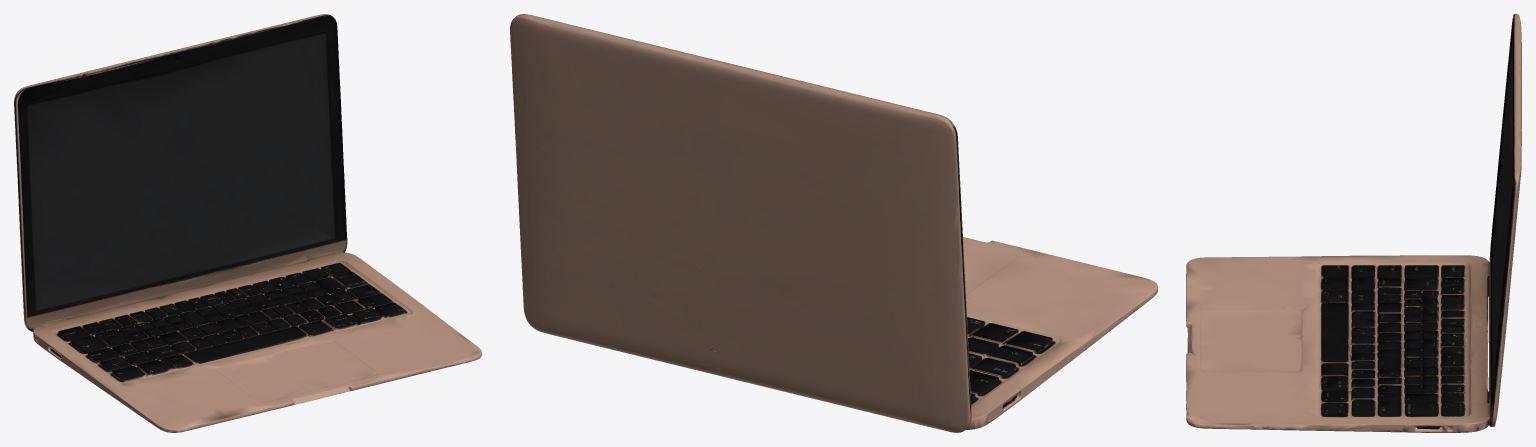
File: laptop-air.glb
3 renders of one model, left to right at view 1: azimuth 30°, elevation 25°; view 2: azimuth 150°, elevation 25°; view 3: azimuth 270°, elevation 25°, orthographic. The views are drawn at different scales.
Visible parts, largest first — view 1: node_0; view 2: node_0; view 3: node_0.
Boxes of the visible parts, left/top/right/bottom form: node_0: left=14, top=14, right=481, bottom=432; node_0: left=510, top=14, right=1157, bottom=432; node_0: left=1186, top=14, right=1521, bottom=432.
Size of the model in its own units: 0.8297 by 0.5903 by 0.6963.
Materials: 1 (1 with a texture image).
